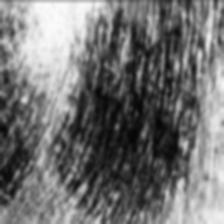Potentially Malignant Skin Tumors: (64, 0, 192, 224), (205, 0, 224, 70)
